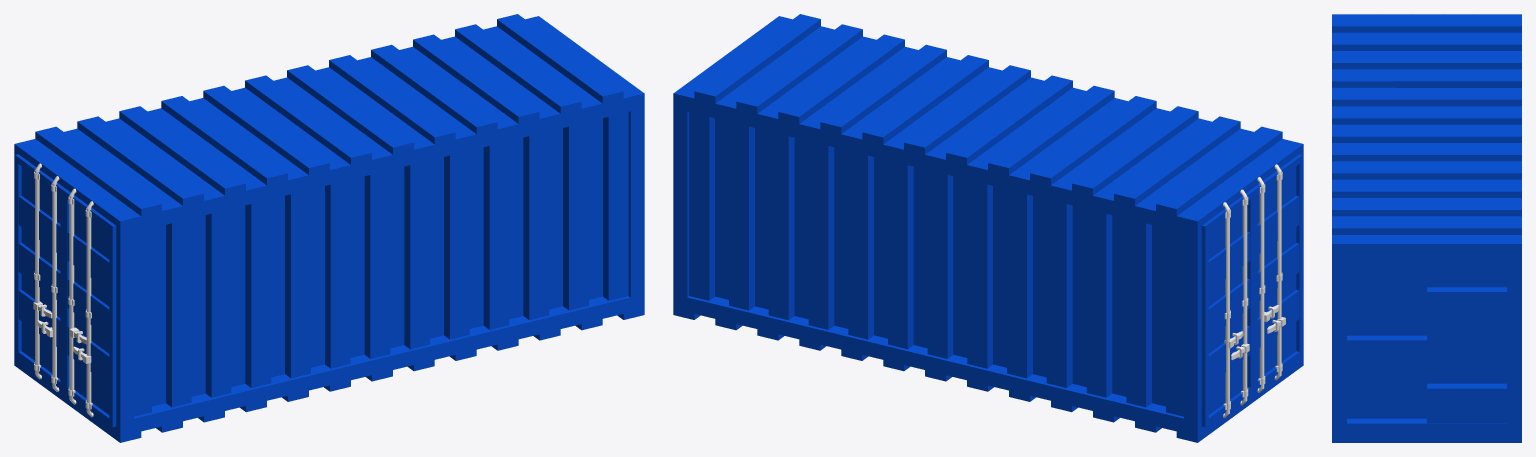
Rendered from containerblue.fbx.
The picture shows the model from 3 angles, left to right: view 1: azimuth 30°, elevation 25°; view 2: azimuth 150°, elevation 25°; view 3: azimuth 270°, elevation 25°; orthographic projection. The views are drawn at different scales.
Visible parts, largest first — view 1: containerblue; view 2: containerblue; view 3: containerblue.
Boxes of the visible parts, x1=… form: containerblue: x1=14, y1=14, x2=644, y2=442; containerblue: x1=673, y1=14, x2=1303, y2=442; containerblue: x1=1332, y1=14, x2=1521, y2=442.
Size of the model in its own units: 1159 by 476 by 399.
